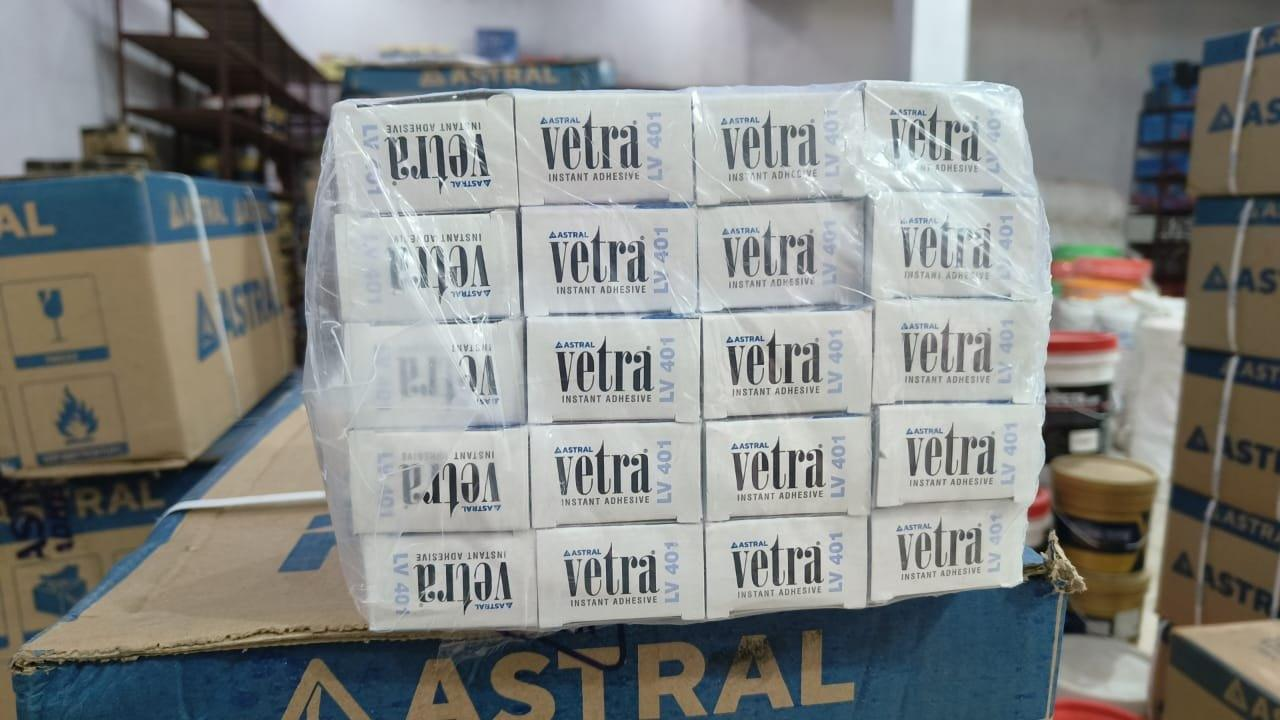VETRA_LV 401: (327, 94, 518, 213), (508, 90, 693, 204), (337, 210, 519, 322), (853, 81, 1034, 193), (694, 89, 860, 205), (346, 321, 525, 428), (349, 426, 529, 532), (522, 206, 696, 314), (870, 193, 1046, 298), (872, 298, 1048, 403), (529, 421, 701, 527), (698, 201, 865, 310), (704, 309, 871, 418), (527, 317, 700, 422), (873, 403, 1043, 507), (537, 524, 703, 628), (705, 416, 868, 520), (361, 531, 535, 628), (869, 500, 1028, 604), (705, 516, 867, 617)
